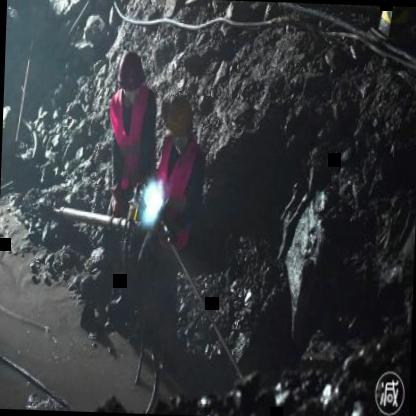helmet: (160, 96, 194, 146), (116, 50, 146, 104)
